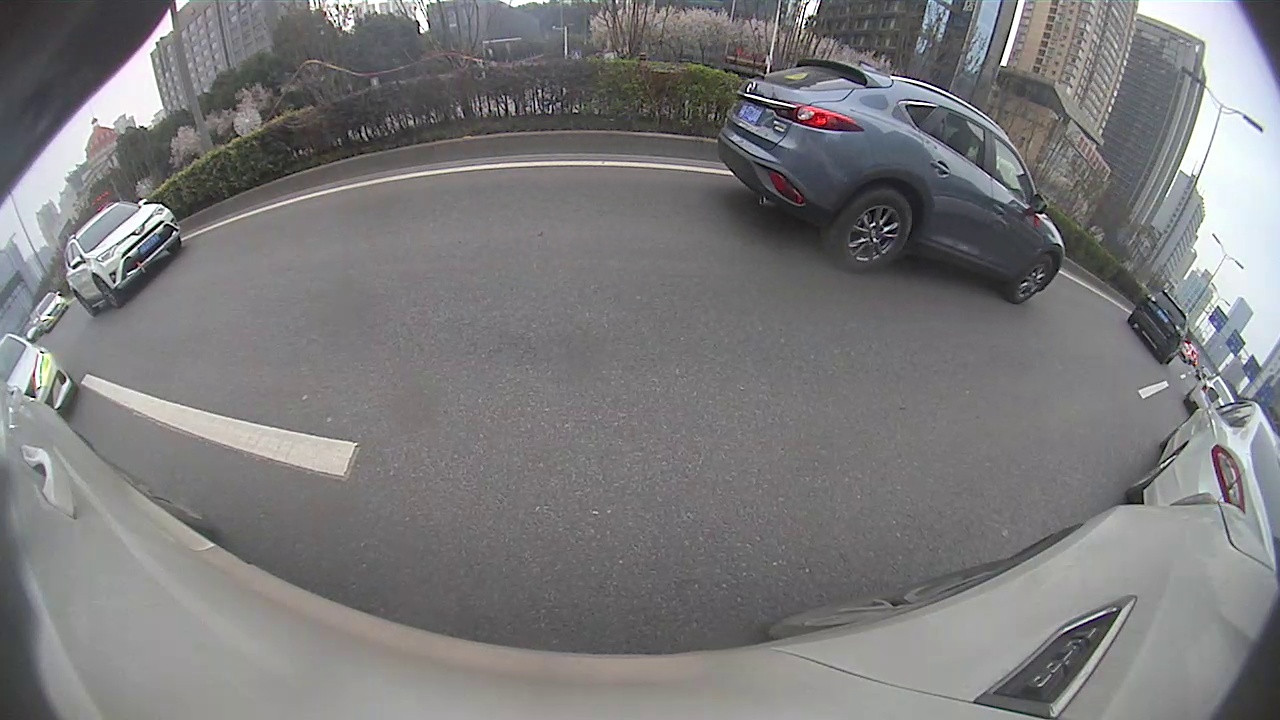car: (714, 58, 1066, 307), (1122, 387, 1278, 571), (62, 197, 184, 316), (1128, 287, 1193, 368)
front: (1011, 257, 1061, 302)
rear: (828, 189, 915, 273)
